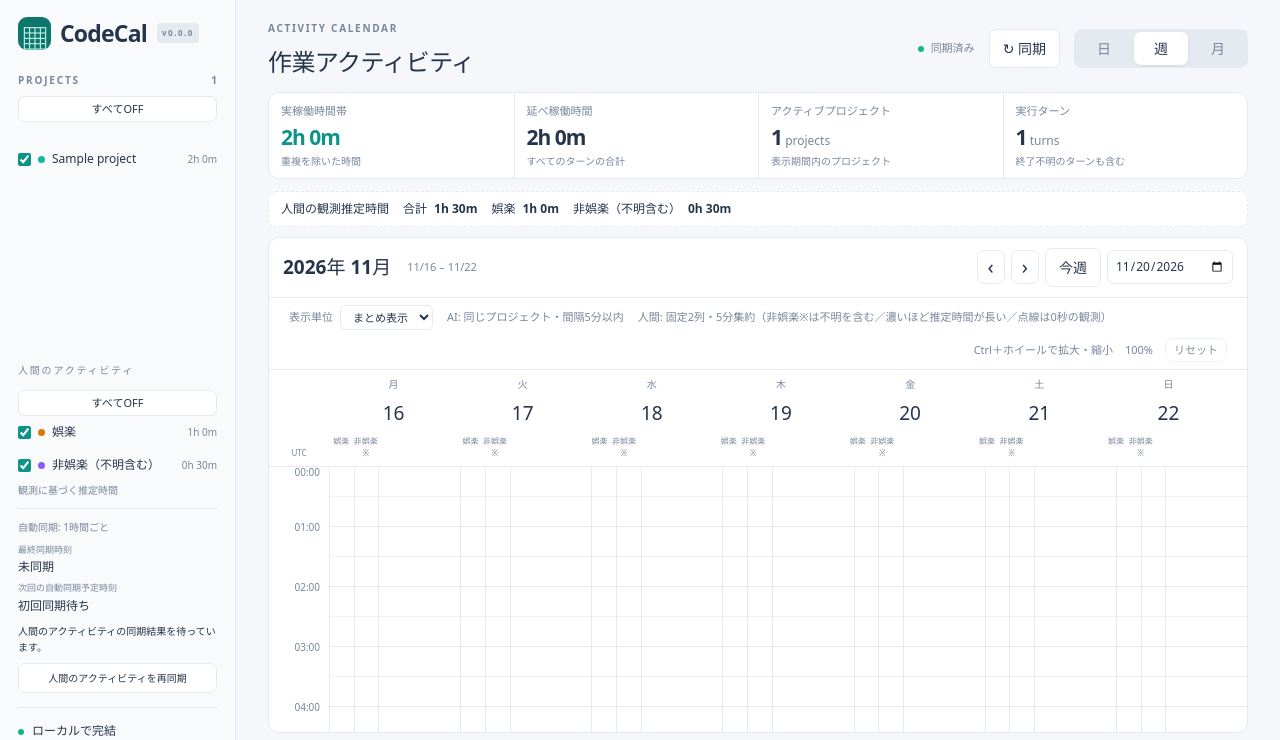
Scenario: applies month kind filters to day records and requests the selected day display unit
Click the button "月" at (1218, 48), box 1191,32 -> 1245,64
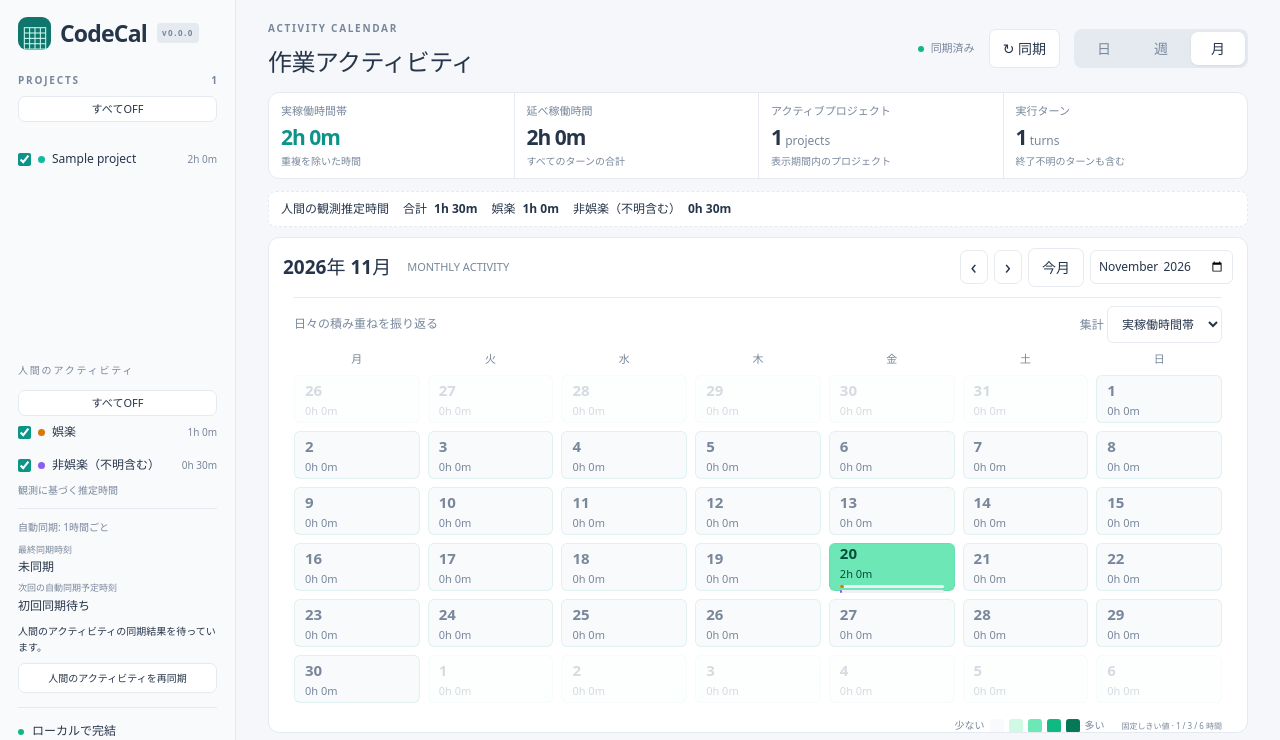
Click the button named "2026-11-20 " at (892, 567), box 829,543 -> 954,591
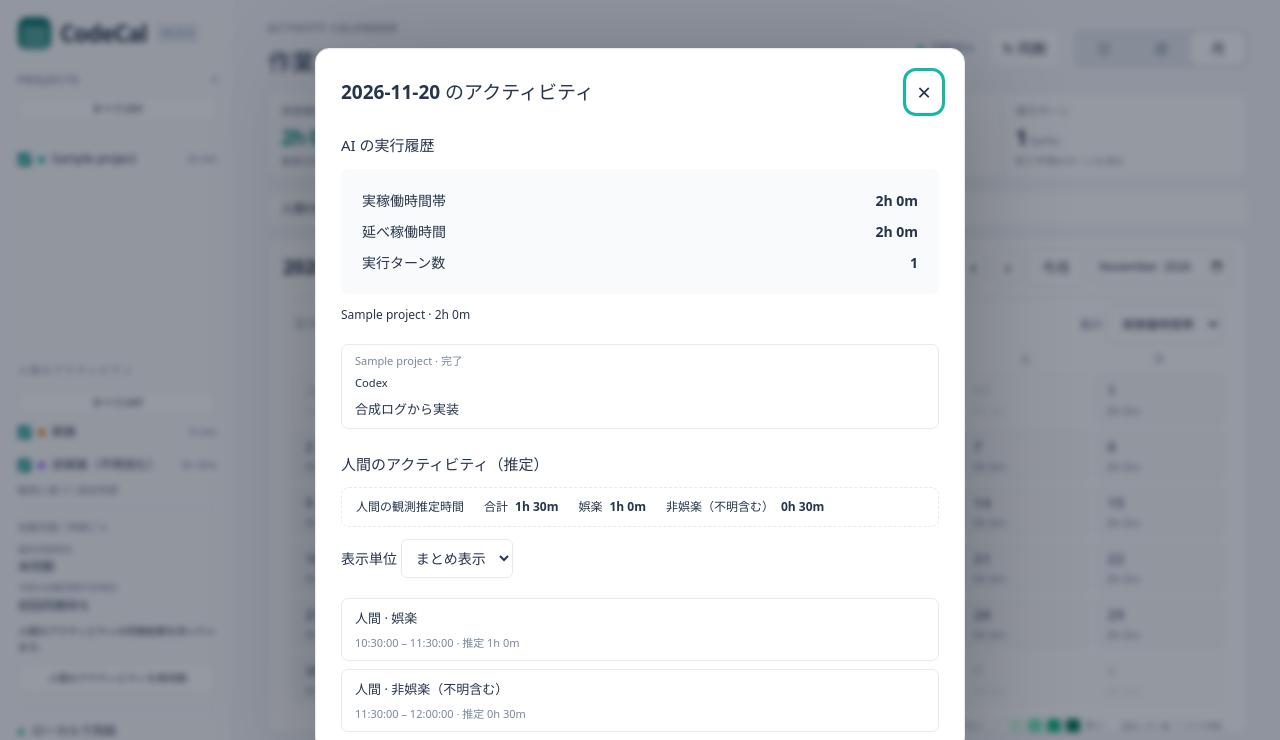
Now the button with aria-label "人間 娯楽 " is shown, box 341,598 -> 939,661
Select "記録単位" in the dropdown named "人間の日別表示単位" at (457, 559), box 401,539 -> 513,578
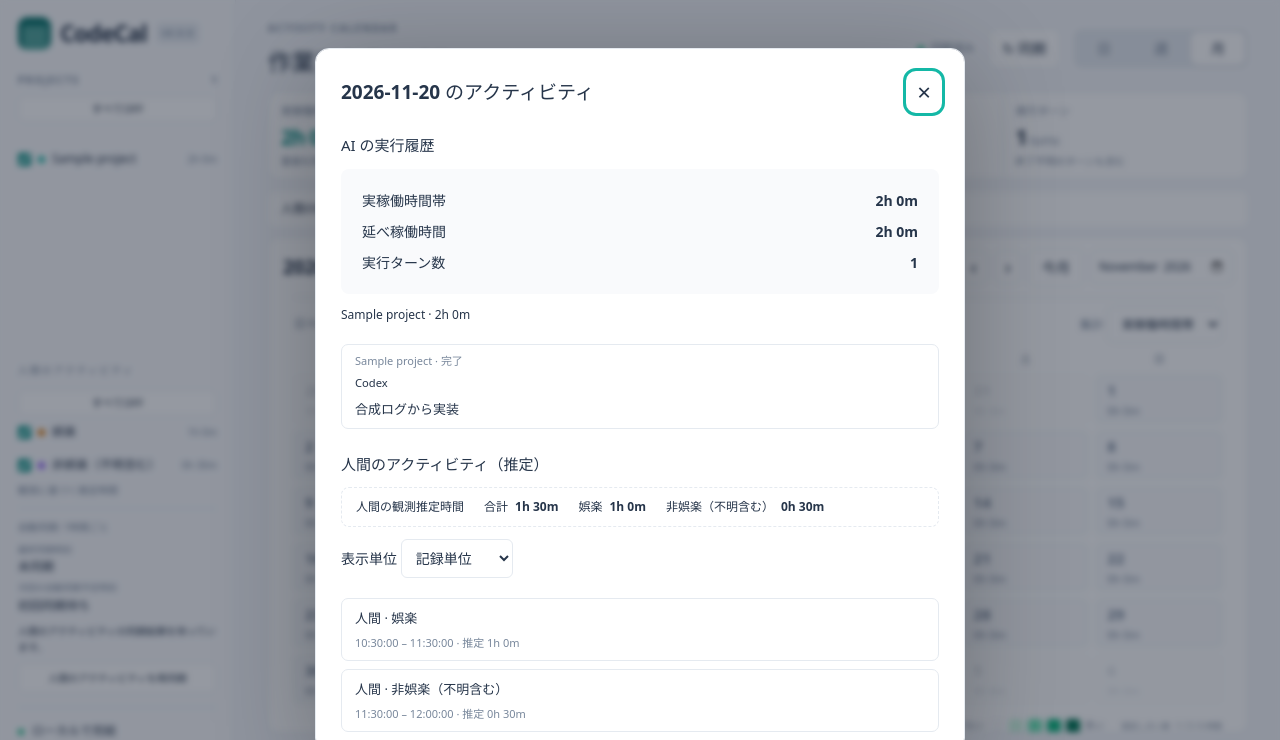
Click the button named "閉じる" at (924, 92), box 909,74 -> 939,110
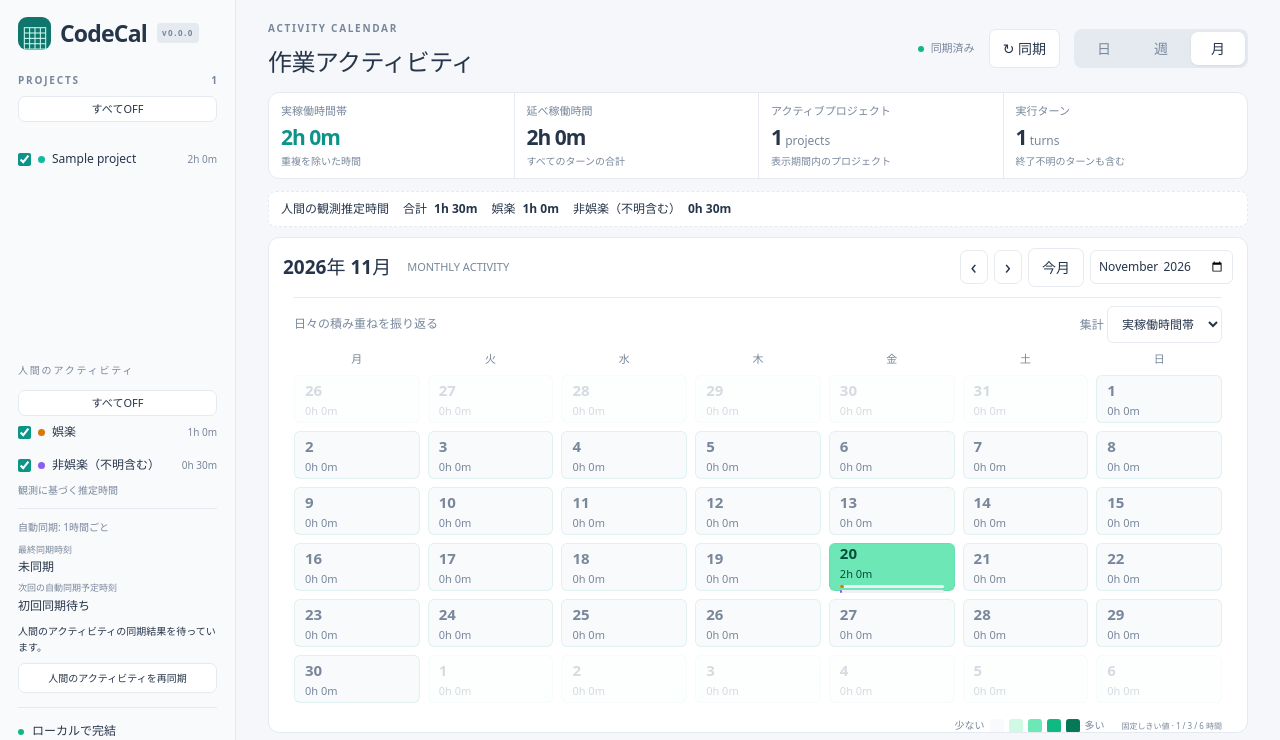
Click the checkbox named "人間の非娯楽（不明含む）を表示" at (24, 465), box 18,459 -> 31,472
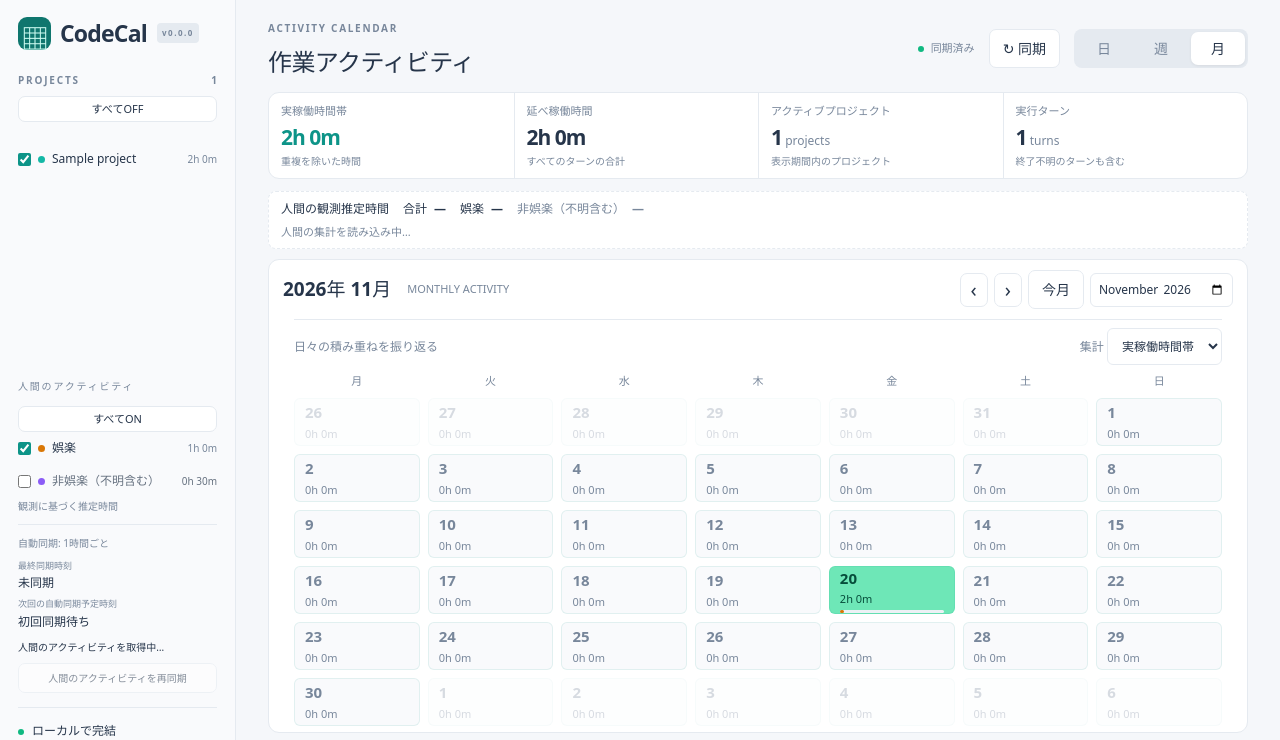
Click the button named "2026-11-20 " at (892, 590), box 829,566 -> 954,614
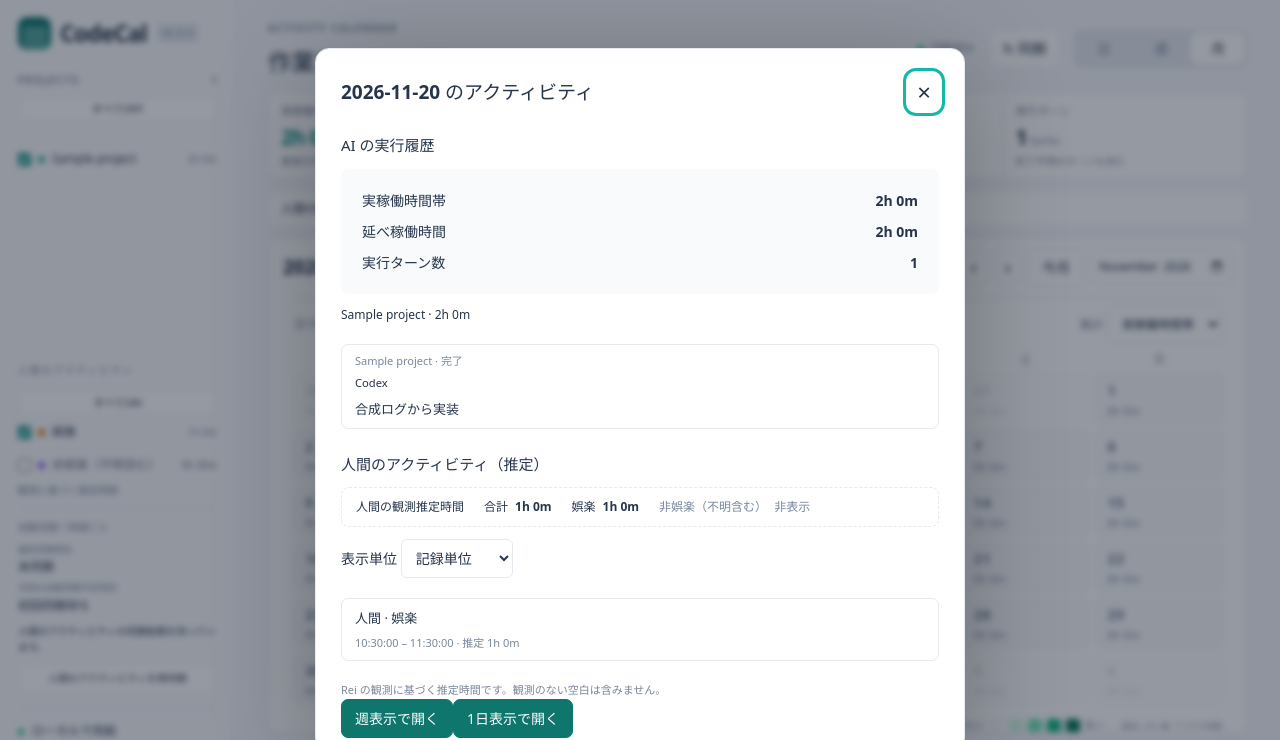
Now the button with aria-label "人間 娯楽 " is shown, box 341,598 -> 939,661
Now the element named "AIの実行履歴" shows "合成ログから実装", box 341,344 -> 939,429
